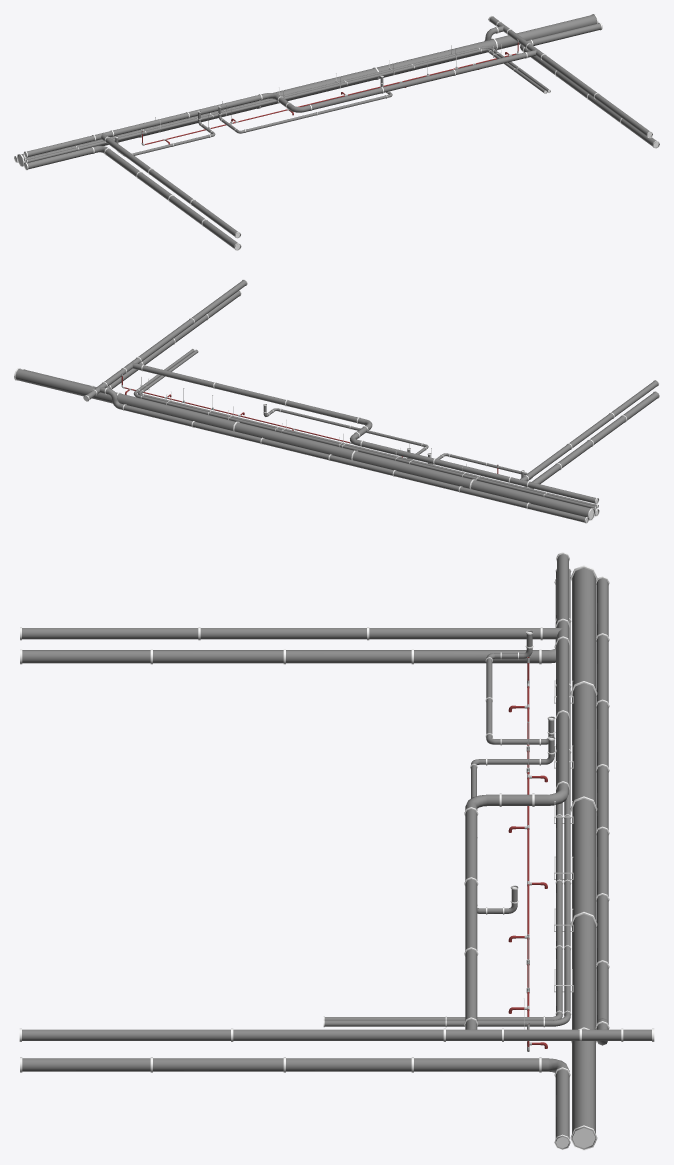
3 views of the same model, one above another, from view 1: azimuth 30°, elevation 25°; view 2: azimuth 150°, elevation 25°; view 3: azimuth 270°, elevation 25° (orthographic). The views are drawn at different scales.
Parts seen in each view (by area): view 1: SM_H_Building_FutureTech_CtControl_01_InterWall_10A; view 2: SM_H_Building_FutureTech_CtControl_01_InterWall_10A; view 3: SM_H_Building_FutureTech_CtControl_01_InterWall_10A.
Part boxes in pixels (<box>): SM_H_Building_FutureTech_CtControl_01_InterWall_10A: <box>14,14,659,250</box>; SM_H_Building_FutureTech_CtControl_01_InterWall_10A: <box>14,279,659,523</box>; SM_H_Building_FutureTech_CtControl_01_InterWall_10A: <box>19,552,654,1150</box>.
Bounding box in the file's own units: 567 × 1187 × 38.09.
